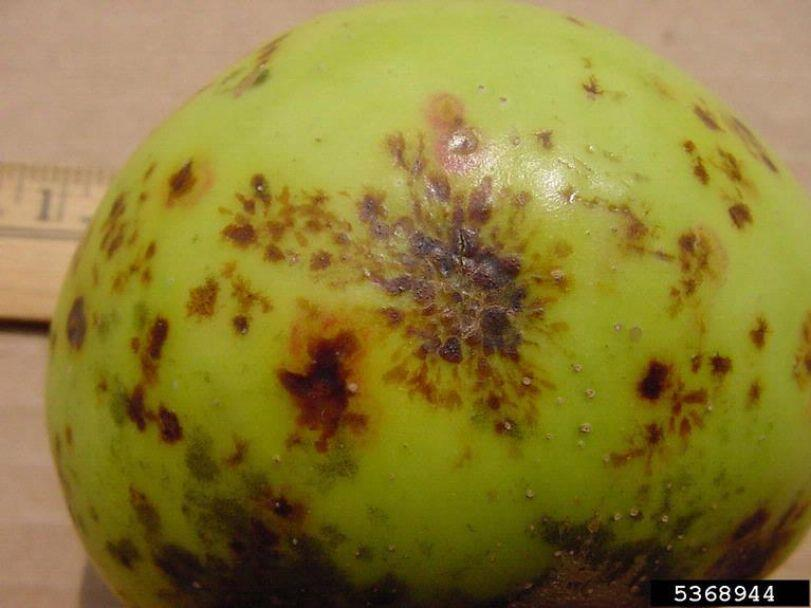BLOTCH: (35, 14, 804, 581)
